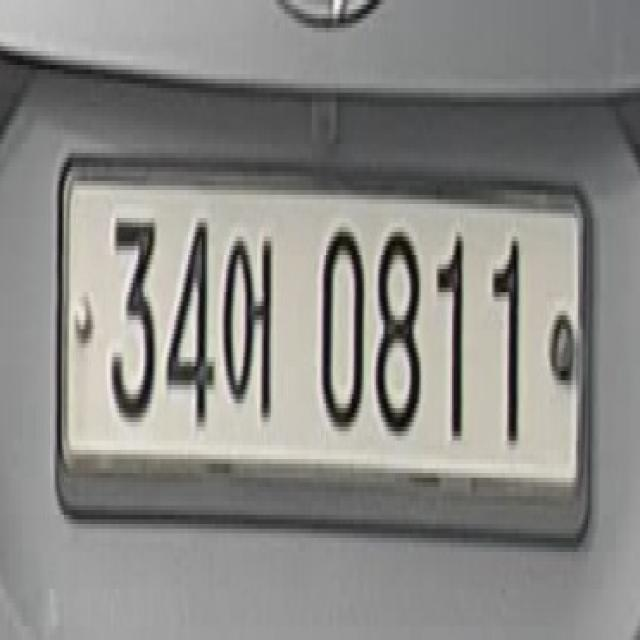0: (316, 218, 366, 431)
1: (488, 227, 521, 445), (434, 223, 466, 445)
3: (107, 208, 157, 426)
4: (164, 227, 217, 427)
8: (372, 223, 422, 436)
eo: (219, 227, 278, 422)
license_plate: (59, 153, 588, 515)
